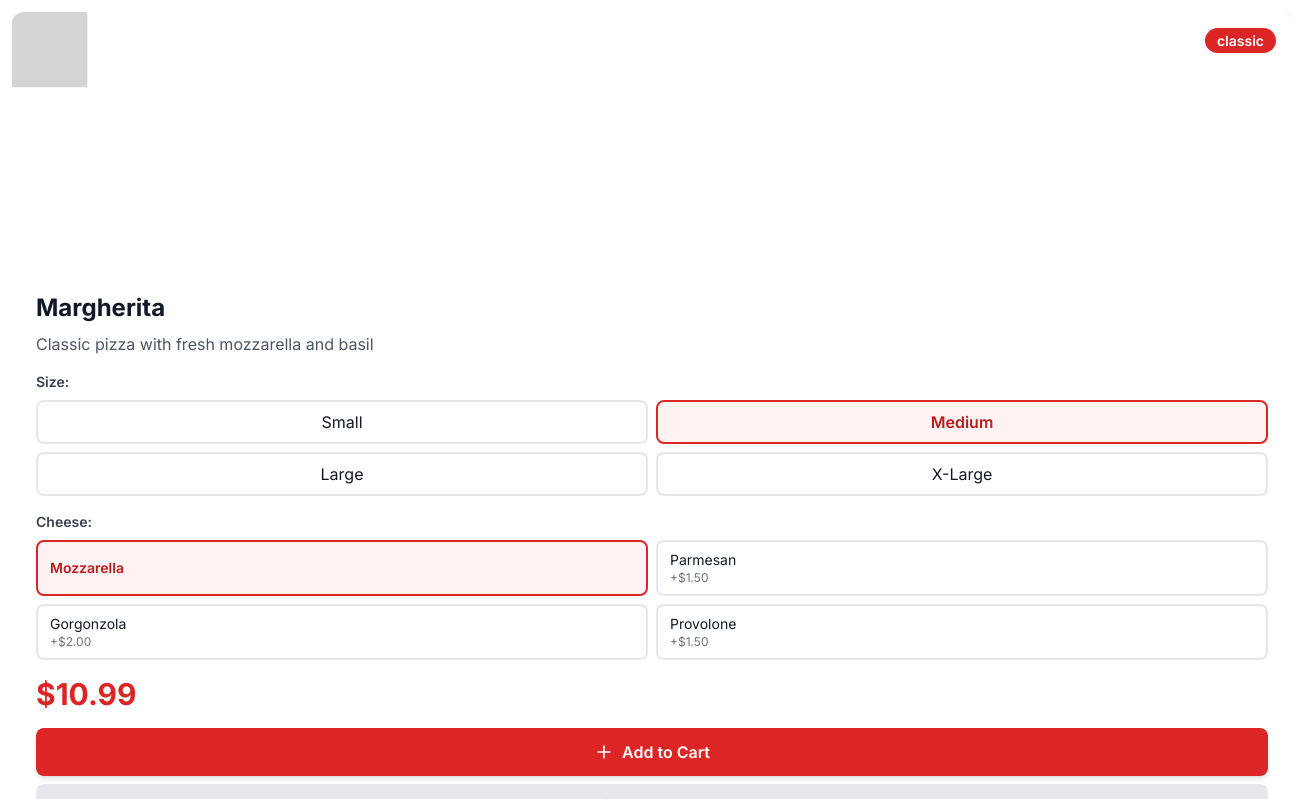
PizzaCard › Cheese Selection › should update price when selecting premium cheese
The image size is (1292, 799).
Expected: the text "$10.99" is shown, [36,676,136,712]
Note: Select Parmesan (+$1.50)
Click the button "Parmesan +$1.50" at (703, 560), box [656,540,1268,596]
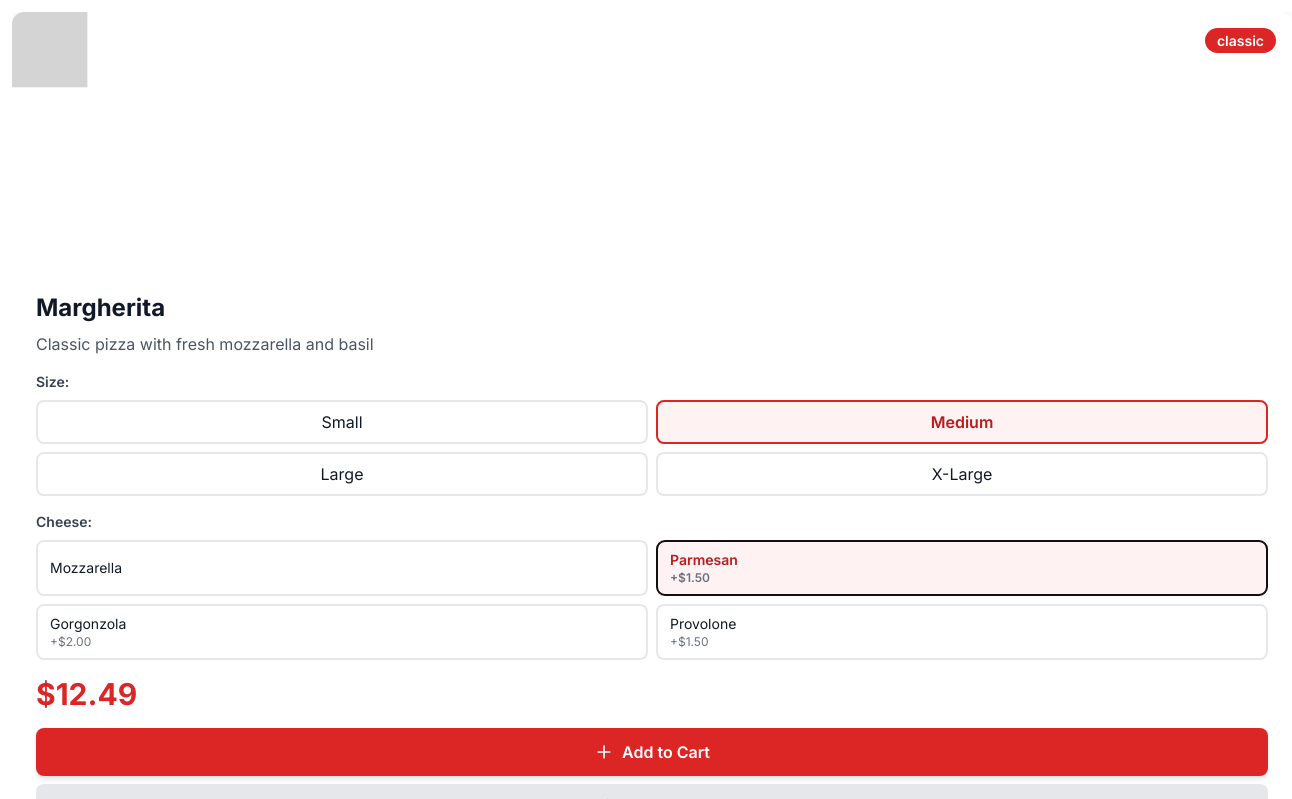
Expected: the text "$12.49" is shown, [36,676,137,712]
